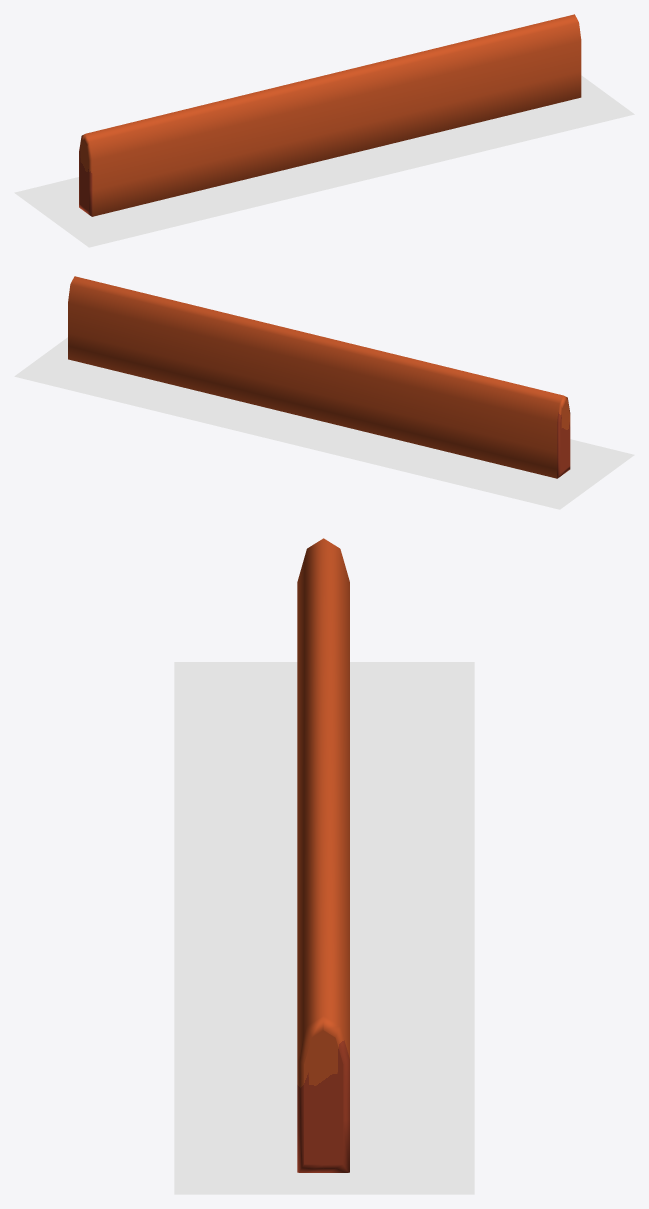
File: NormalContent.fbx
3 renders of one model, top to bottom at view 1: azimuth 30°, elevation 25°; view 2: azimuth 150°, elevation 25°; view 3: azimuth 270°, elevation 25°, orthographic. The views are drawn at different scales.
Visible parts, largest first — view 1: BasicObstacle, Shadow; view 2: BasicObstacle, Shadow; view 3: Shadow, BasicObstacle.
Part boxes in pixels (left/top/right/bottom): BasicObstacle: left=79, top=14, right=581, bottom=216; Shadow: left=14, top=75, right=634, bottom=247; BasicObstacle: left=68, top=276, right=570, bottom=478; Shadow: left=14, top=337, right=634, bottom=509; Shadow: left=174, top=662, right=474, bottom=1194; BasicObstacle: left=297, top=538, right=349, bottom=1172.
Bounding box in the file's own units: 2.86 × 0.3992 × 0.6805.
